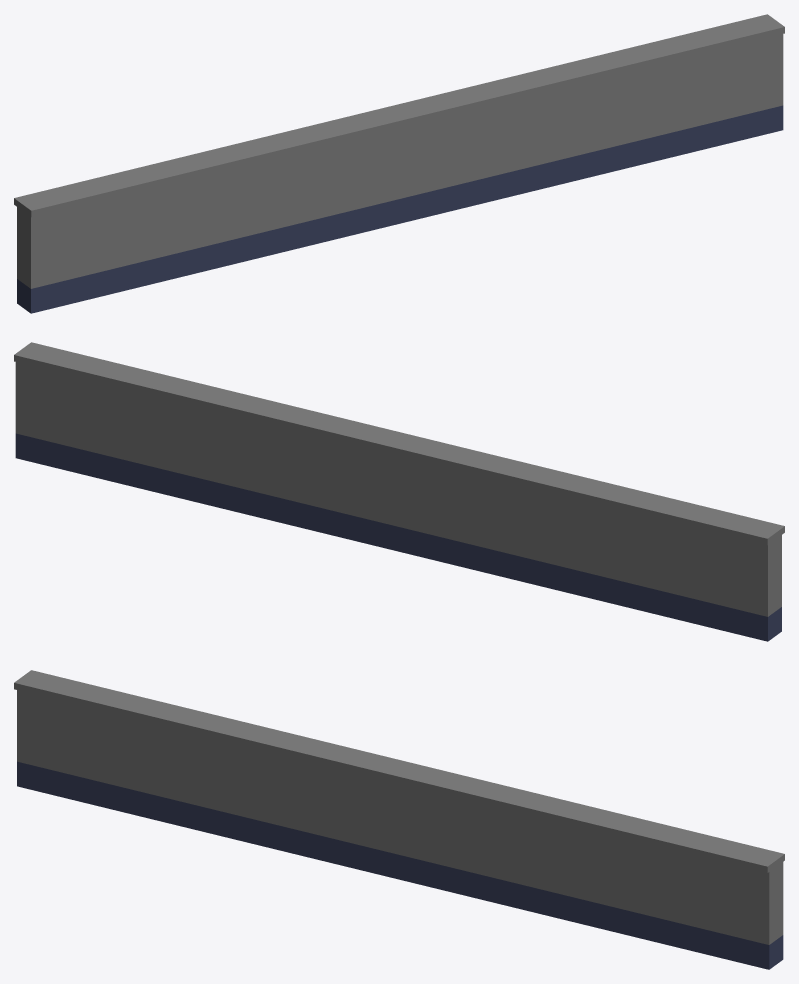
Rendered from SM_walls_policestation.fbx.
3 views of the same model, one above another, from view 1: azimuth 30°, elevation 25°; view 2: azimuth 150°, elevation 25°; view 3: azimuth 330°, elevation 25° (orthographic).
Parts seen in each view (by area): view 1: Object32300; view 2: Object32300; view 3: Object32300.
Boxes of the visible parts, x1,y1,x2,y2 form: Object32300: (14, 14, 784, 313); Object32300: (14, 342, 784, 641); Object32300: (14, 670, 784, 969).
Size of the model in its own units: 540 by 71.46 by 21.55.
